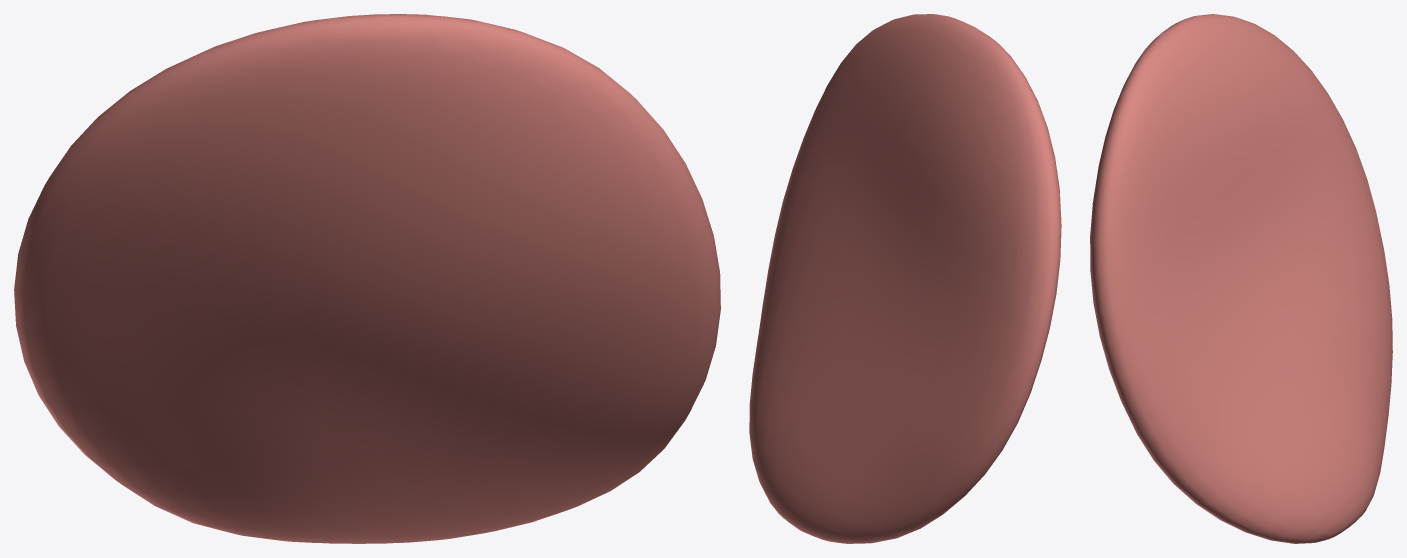
3 views of the same model, side by side, from view 1: azimuth 30°, elevation 25°; view 2: azimuth 150°, elevation 25°; view 3: azimuth 270°, elevation 25° (orthographic). The views are drawn at different scales.
Parts seen in each view (by area): view 1: ZA_92f9cc31b2b545b2; view 2: ZA_92f9cc31b2b545b2; view 3: ZA_92f9cc31b2b545b2.
Part boxes in pixels (x1,y1,x2,y2): ZA_92f9cc31b2b545b2: (14, 14, 720, 543); ZA_92f9cc31b2b545b2: (749, 14, 1061, 543); ZA_92f9cc31b2b545b2: (1090, 14, 1392, 543).
Size of the model in its own units: 0.0191 by 0.022 by 0.0133.
